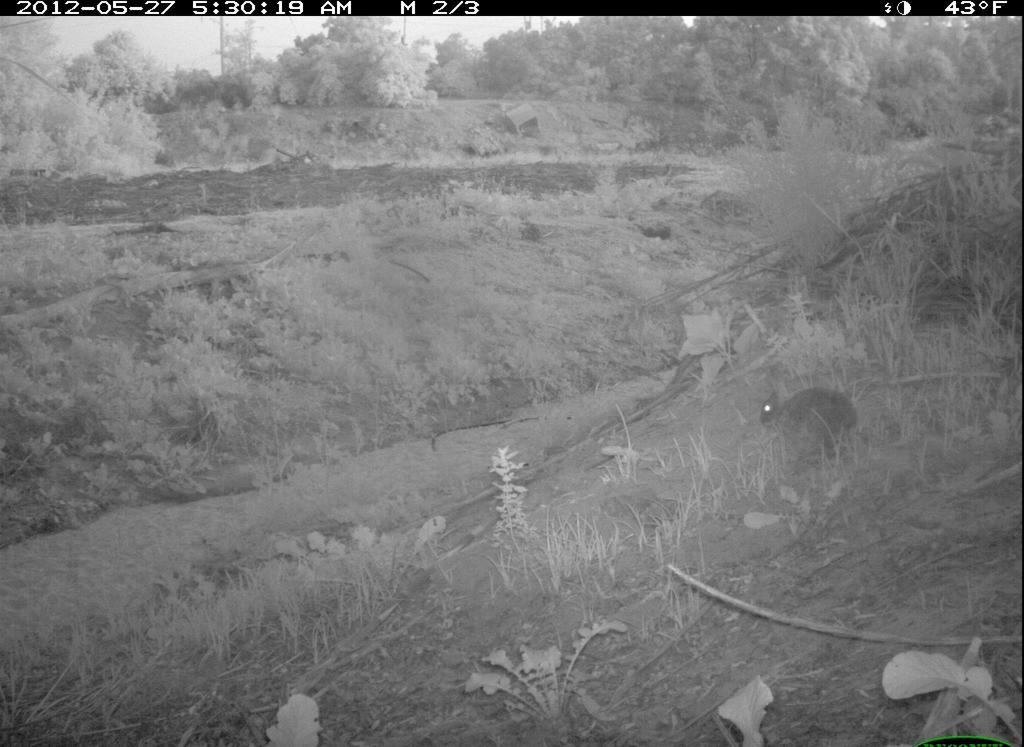rabbit: (754, 381, 863, 463)
